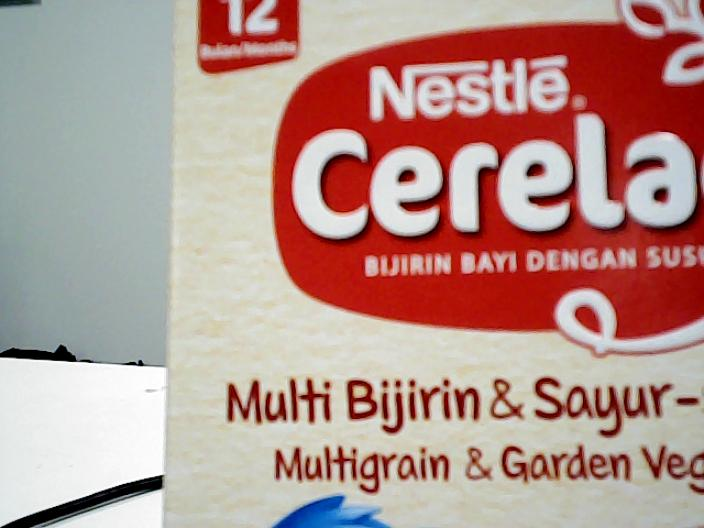Babyfood_200-299g_Halal_NonHealthy: (174, 1, 704, 502)
